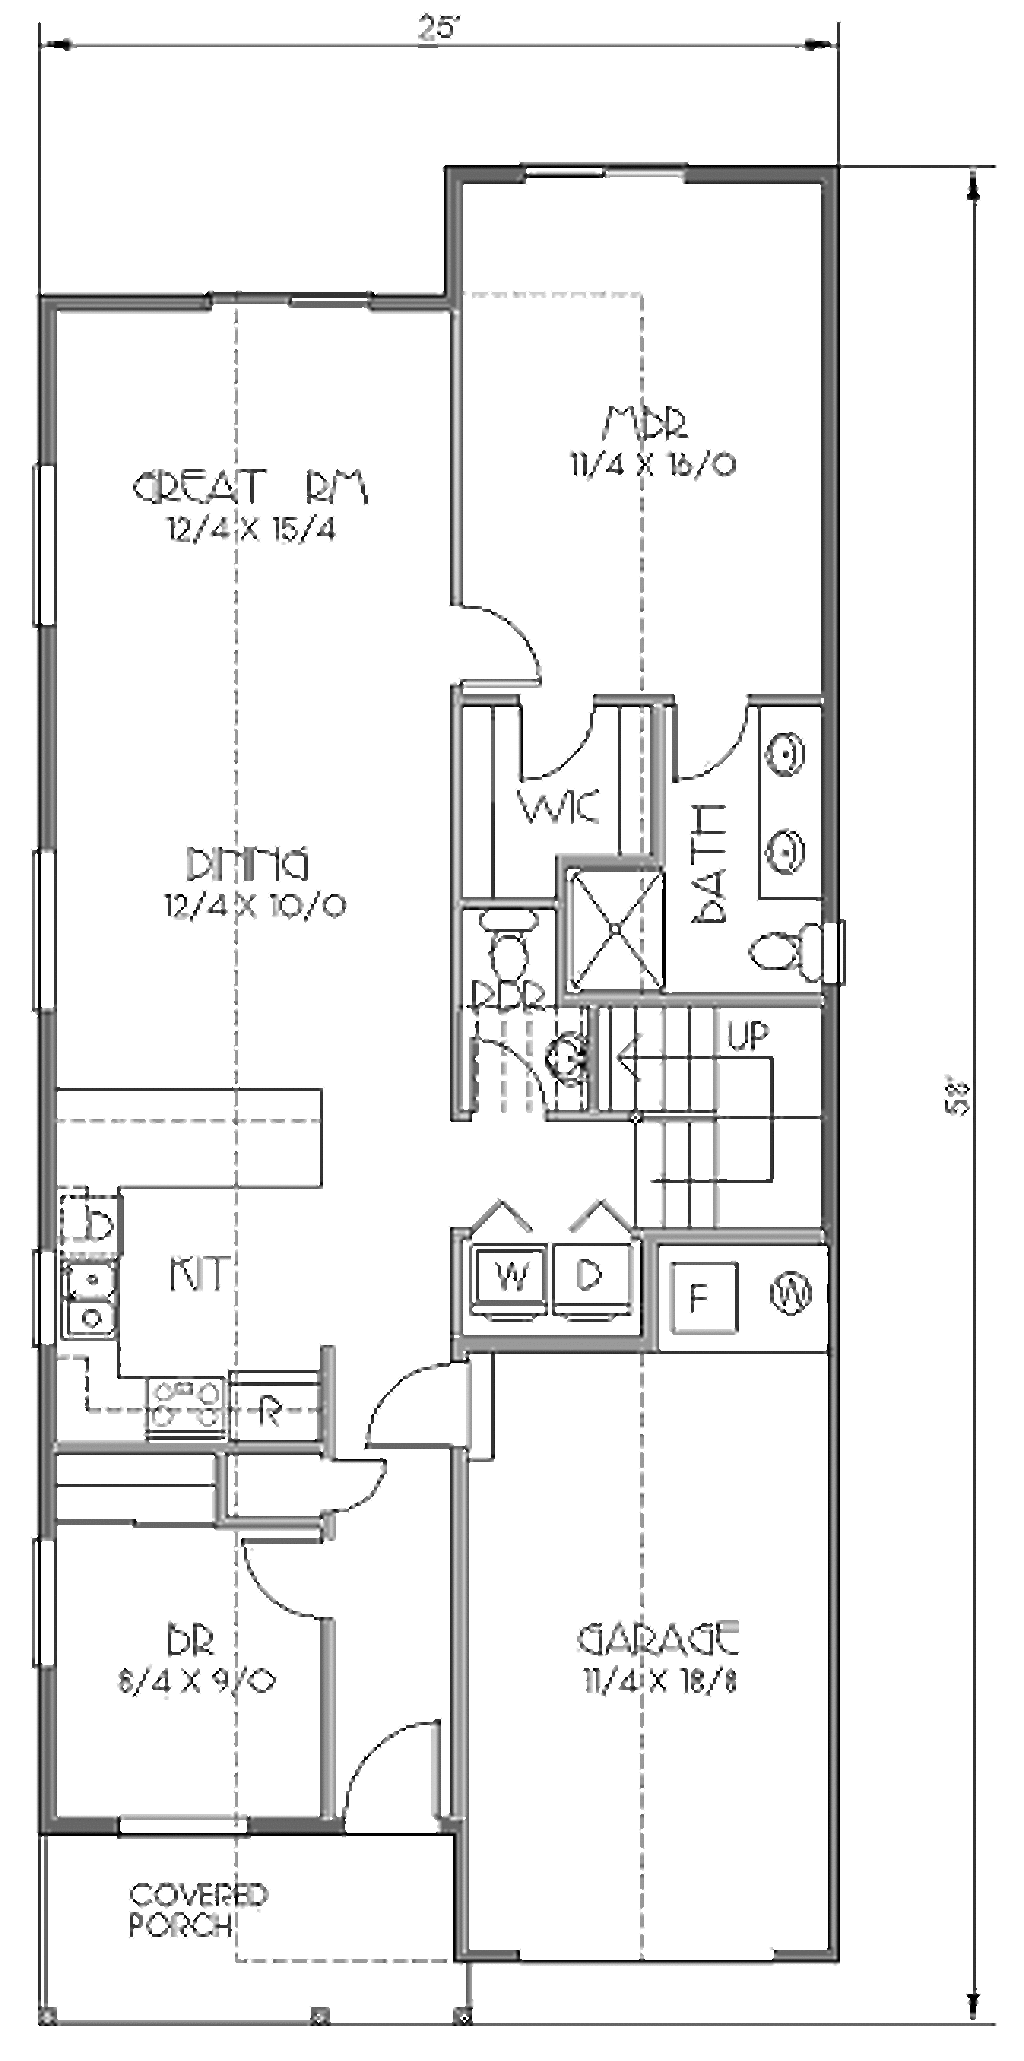door: (344, 1354, 515, 1467), (334, 1725, 457, 1835), (644, 686, 751, 797), (223, 1525, 329, 1622), (450, 586, 547, 686), (447, 1028, 544, 1128), (521, 693, 589, 777), (323, 1451, 383, 1519)
large_sink: (711, 906, 864, 992), (467, 899, 547, 996)
small_sink: (740, 703, 831, 915), (534, 999, 592, 1105)
stairs: (586, 1003, 818, 1236)
twin_sink: (60, 1257, 124, 1345)
window: (99, 1790, 269, 1851), (14, 1519, 76, 1686), (28, 461, 74, 651), (502, 149, 695, 191), (34, 854, 63, 1028)
